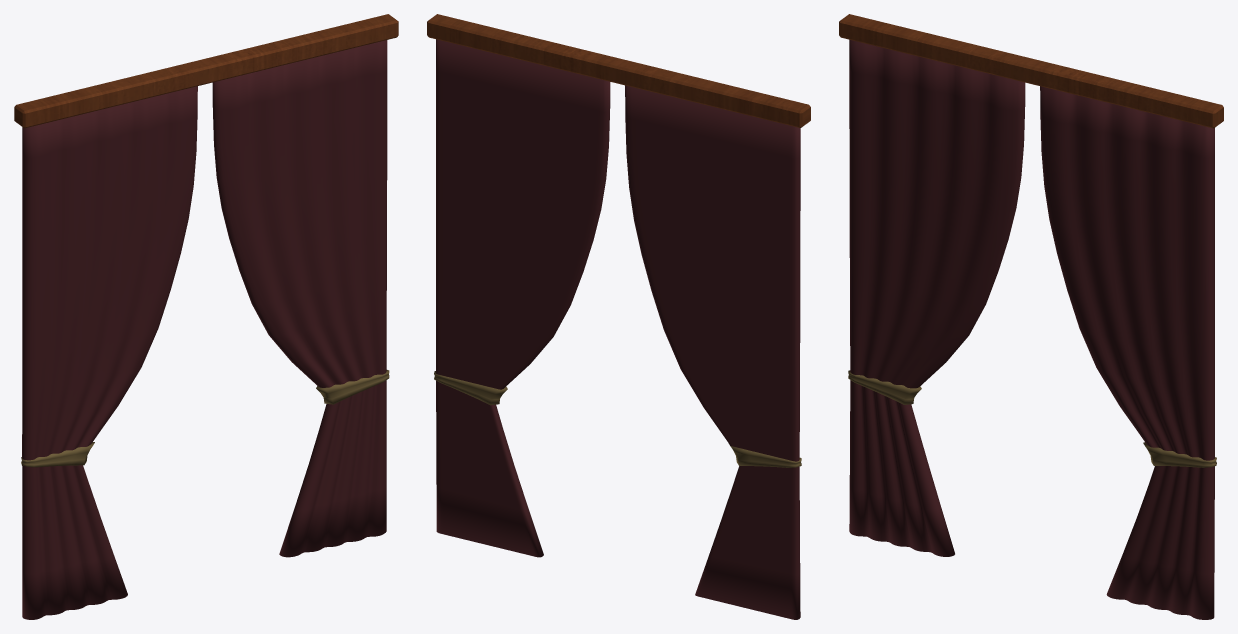
File: Curtains.fbx
The picture shows the model from 3 angles, left to right: view 1: azimuth 30°, elevation 25°; view 2: azimuth 150°, elevation 25°; view 3: azimuth 330°, elevation 25°; orthographic projection.
Visible parts, largest first — view 1: Improved Open curtains, Improved Curtain rail, Improved Curtain holders; view 2: Improved Open curtains, Improved Curtain rail, Improved Curtain holders; view 3: Improved Open curtains, Improved Curtain rail, Improved Curtain holders.
Part boxes in pixels (box(x1,y1,x2,y2)): Improved Open curtains: box(22, 40, 387, 619); Improved Curtain rail: box(14, 14, 398, 128); Improved Curtain holders: box(21, 370, 389, 467); Improved Open curtains: box(436, 39, 800, 619); Improved Curtain rail: box(427, 14, 810, 127); Improved Curtain holders: box(434, 371, 801, 467); Improved Open curtains: box(849, 39, 1214, 619); Improved Curtain rail: box(839, 14, 1223, 128); Improved Curtain holders: box(848, 370, 1216, 467).
Size of the model in its own units: 649 by 845 by 31.25.
